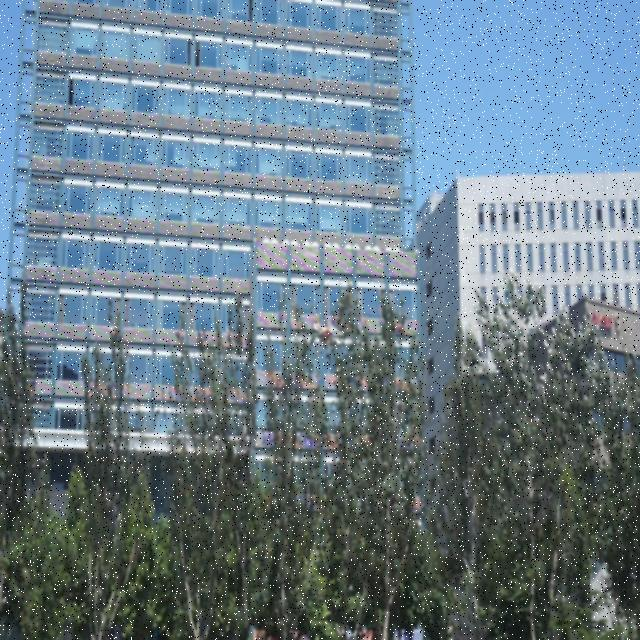UAV: (311, 322, 343, 348)
